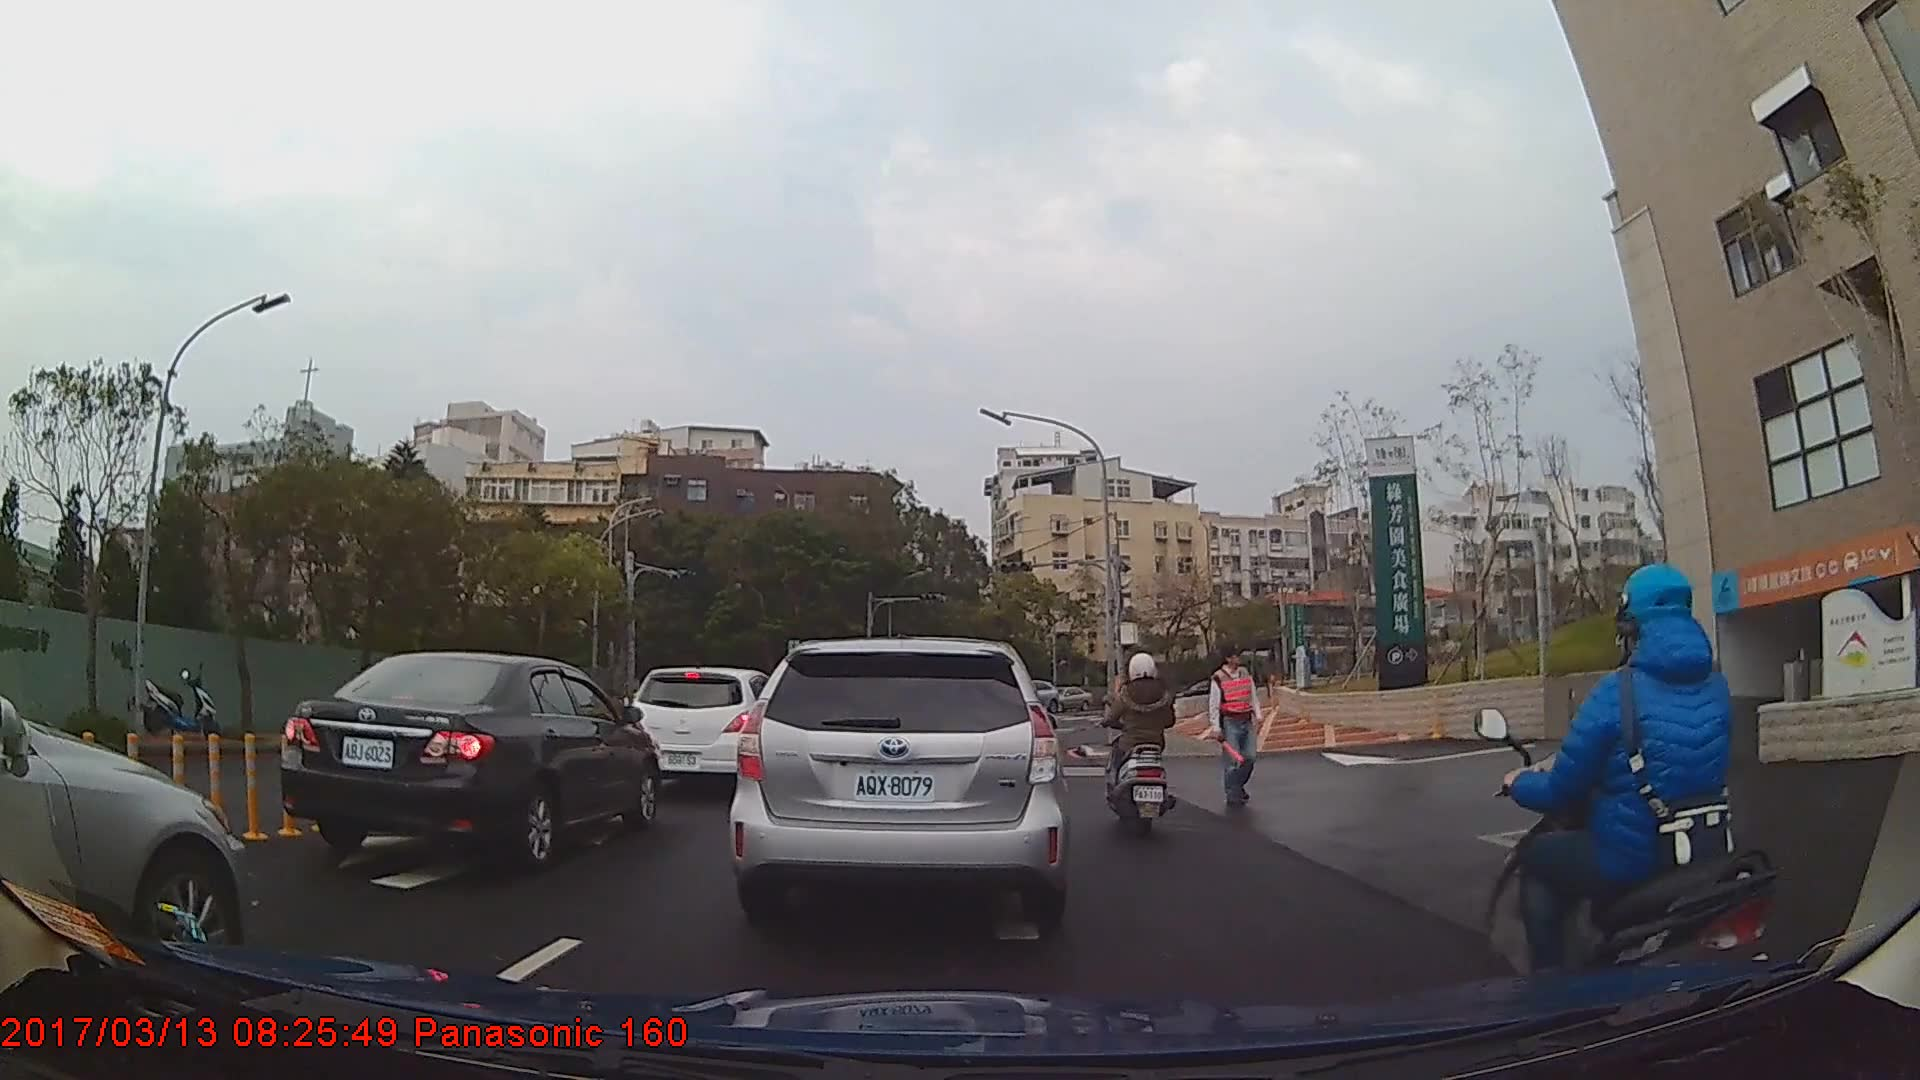pedestrian: (1209, 641, 1266, 806)
rider: (1478, 563, 1795, 1056), (1107, 654, 1182, 841)
vehicle: (729, 634, 1071, 928), (280, 650, 662, 868), (5, 714, 244, 953), (626, 666, 783, 795), (1054, 683, 1094, 712)
